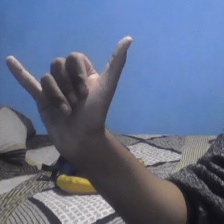Y: (4, 32, 138, 159)
